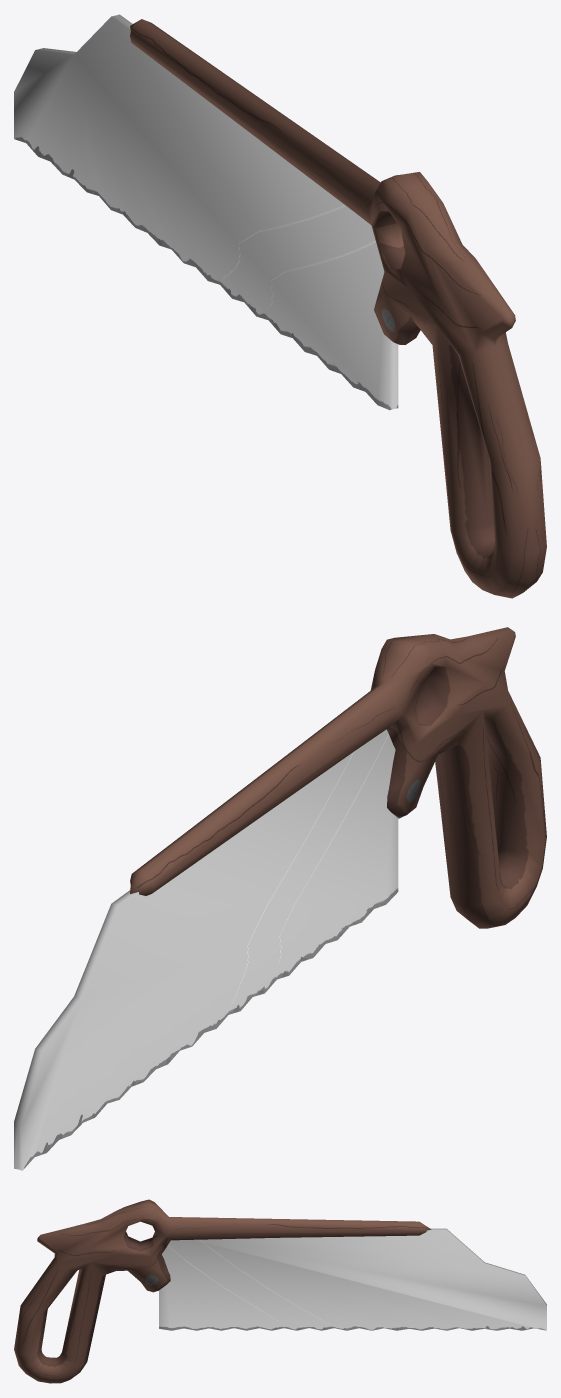
Rendered from MeleeCrow.fbx.
The picture shows the model from 3 angles, top to bottom: view 1: azimuth 30°, elevation 25°; view 2: azimuth 150°, elevation 25°; view 3: azimuth 270°, elevation 25°; orthographic projection. The views are drawn at different scales.
Parts seen in each view (by area): view 1: Circle; view 2: Circle; view 3: Circle.
Boxes of the visible parts, bbox=[...] form: Circle: bbox=[14, 14, 546, 598]; Circle: bbox=[14, 627, 546, 1170]; Circle: bbox=[14, 1199, 546, 1383].
Size of the model in its own units: 1.33 by 9.52 by 25.52.
